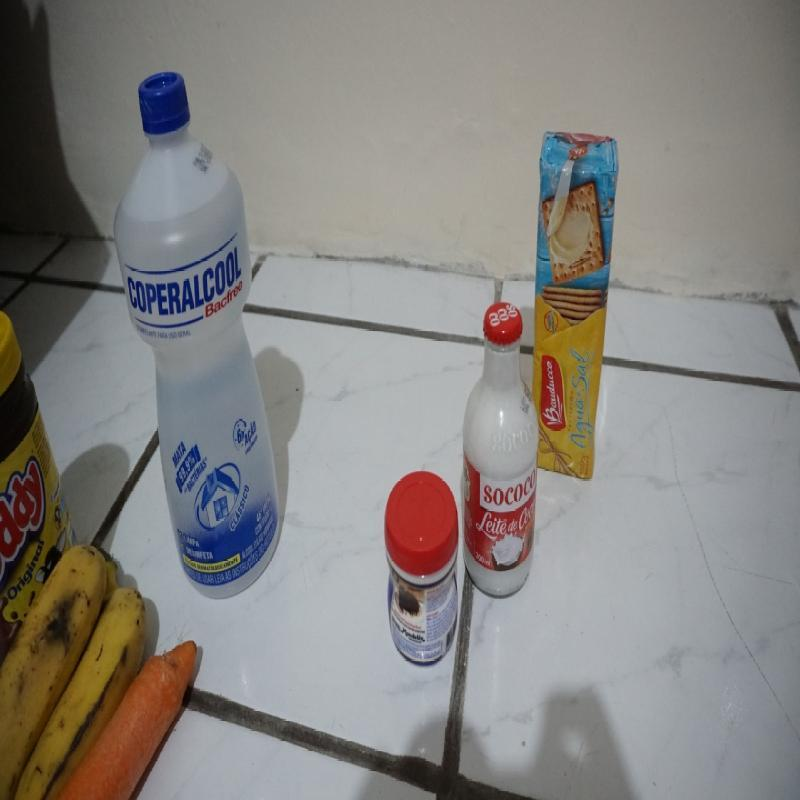Alcohol Bottle: (121, 68, 295, 578)
Banana: (3, 546, 99, 782)
Carrot: (109, 629, 204, 790)
Chocolate Powder: (0, 310, 74, 534)
Coconut Milk: (466, 307, 539, 599)
Cracker: (540, 128, 618, 480)
Yeast: (377, 471, 459, 656)
